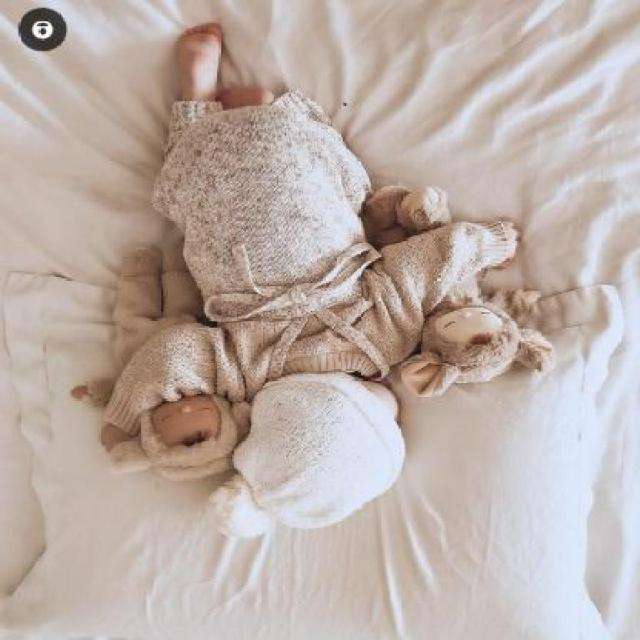baby: (163, 28, 404, 532)
